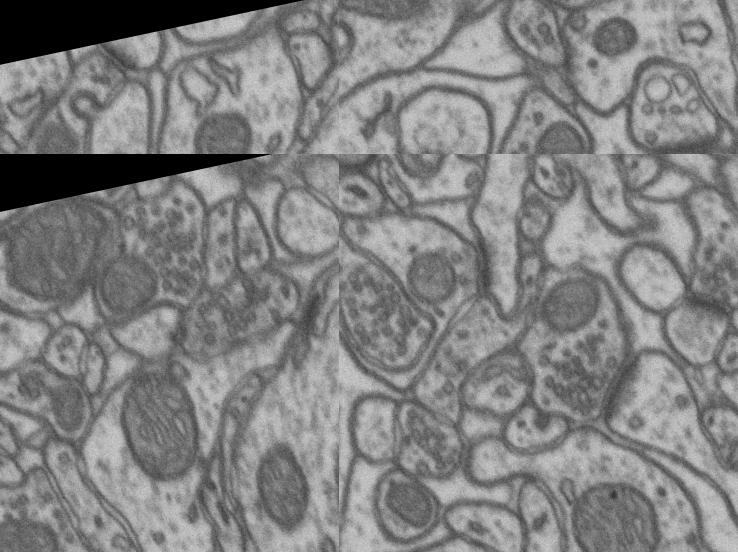mitochondria: (0, 188, 130, 317), (106, 358, 215, 497), (552, 463, 676, 552), (244, 432, 323, 538), (518, 264, 610, 349), (392, 238, 476, 319), (88, 248, 166, 326), (339, 0, 449, 51), (177, 97, 265, 154), (376, 471, 446, 540), (372, 154, 469, 201), (580, 4, 652, 66), (520, 102, 597, 154), (0, 505, 77, 552), (23, 111, 89, 154)
